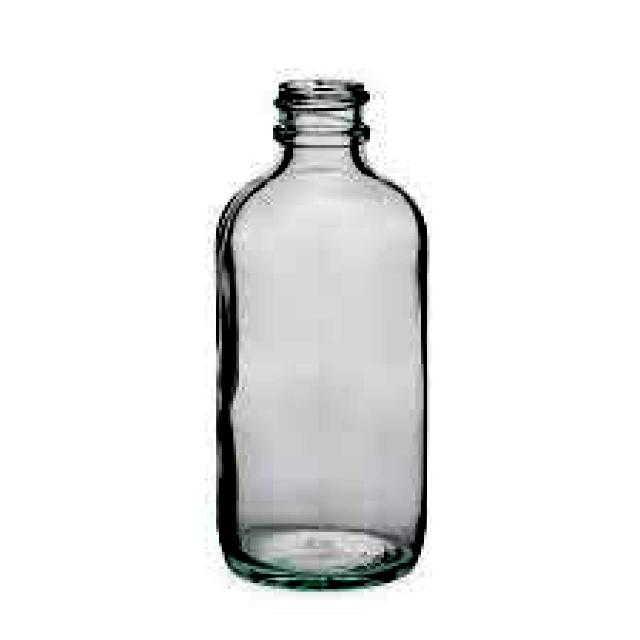Glass: (209, 72, 433, 594)
